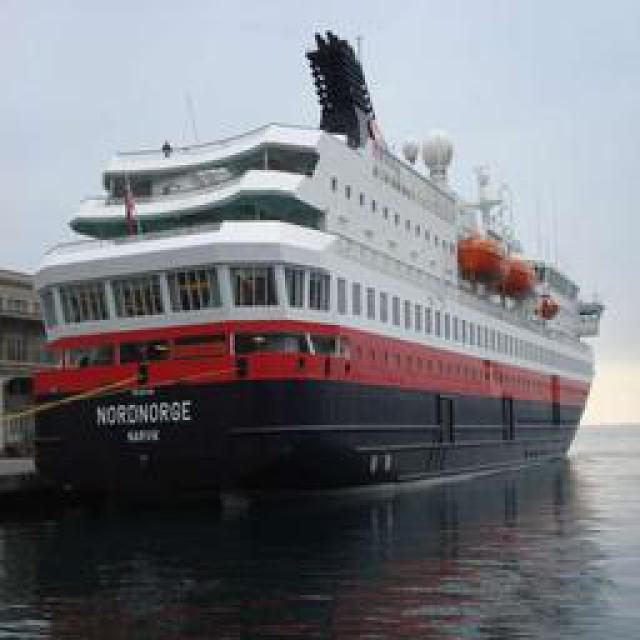Ship: (33, 111, 598, 491)
